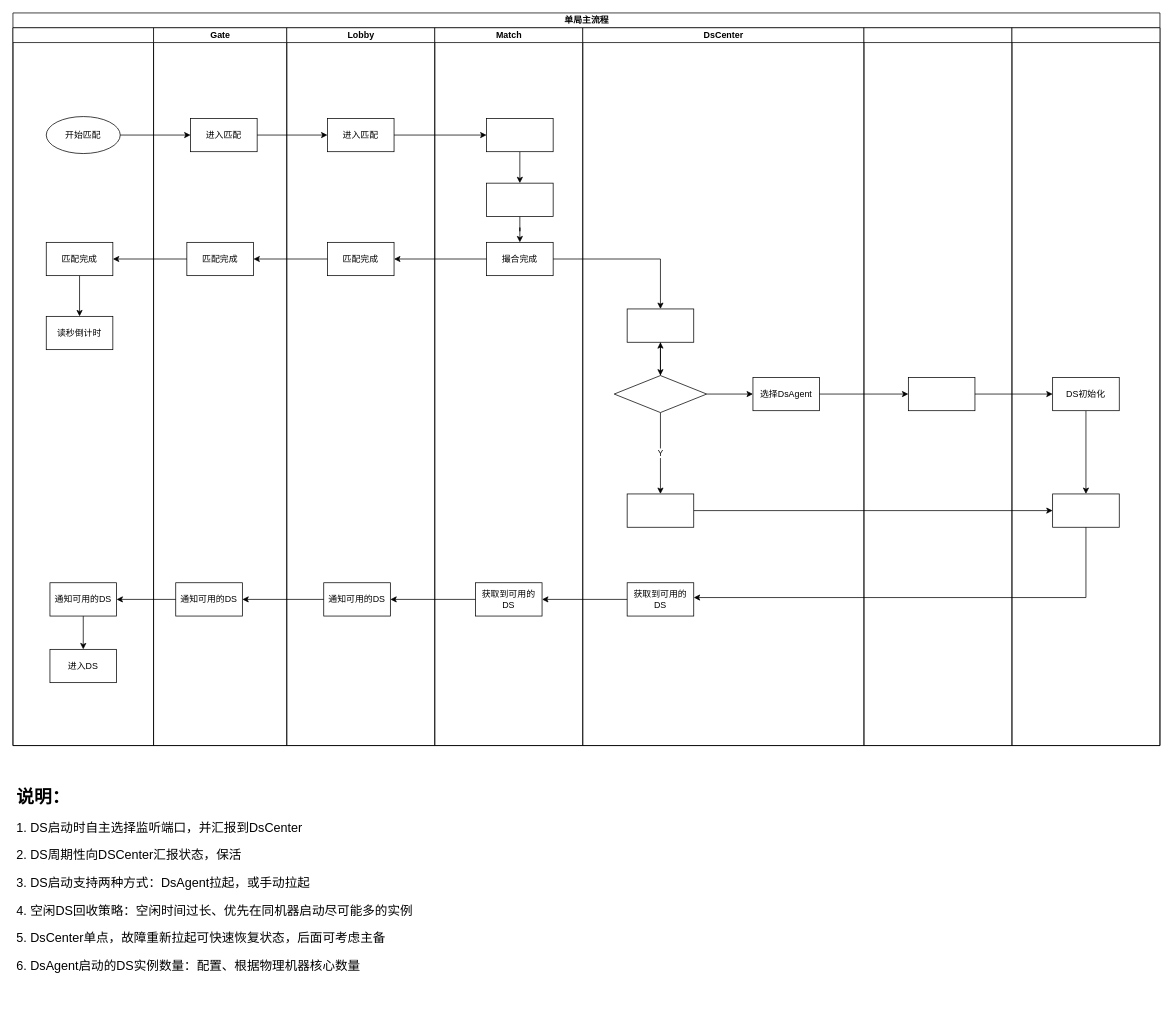
This 1173x1022 diagram has some shape labels left out. The box of each missing label's shape, as (x1, y1, x2, y2) in pixels:
Client: (12, 27, 154, 746)
DS: (1011, 27, 1160, 746)
DsAgent: (863, 27, 1012, 746)
分配DS: (626, 308, 694, 342)
创建新DS: (908, 377, 975, 411)
初始化房间: (1052, 493, 1119, 527)
匹配撮合: (486, 182, 553, 216)
有空闲的DS: (613, 375, 707, 413)
进入匹配池: (486, 118, 553, 152)
选择空闲DS: (626, 493, 694, 527)
